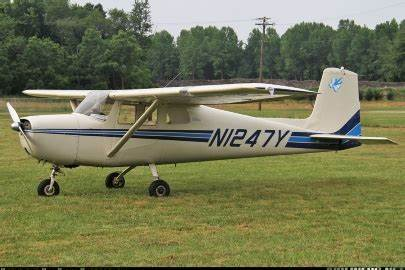Aeronef_de_loisir: (1, 67, 400, 206)
